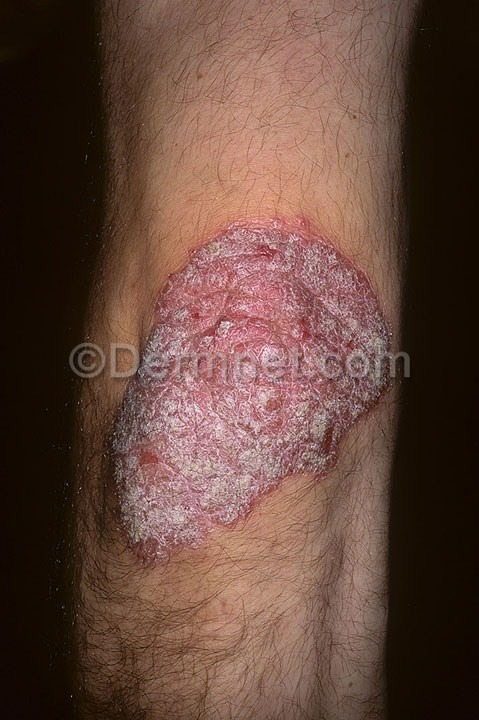Psoriasis: (102, 219, 395, 562)
